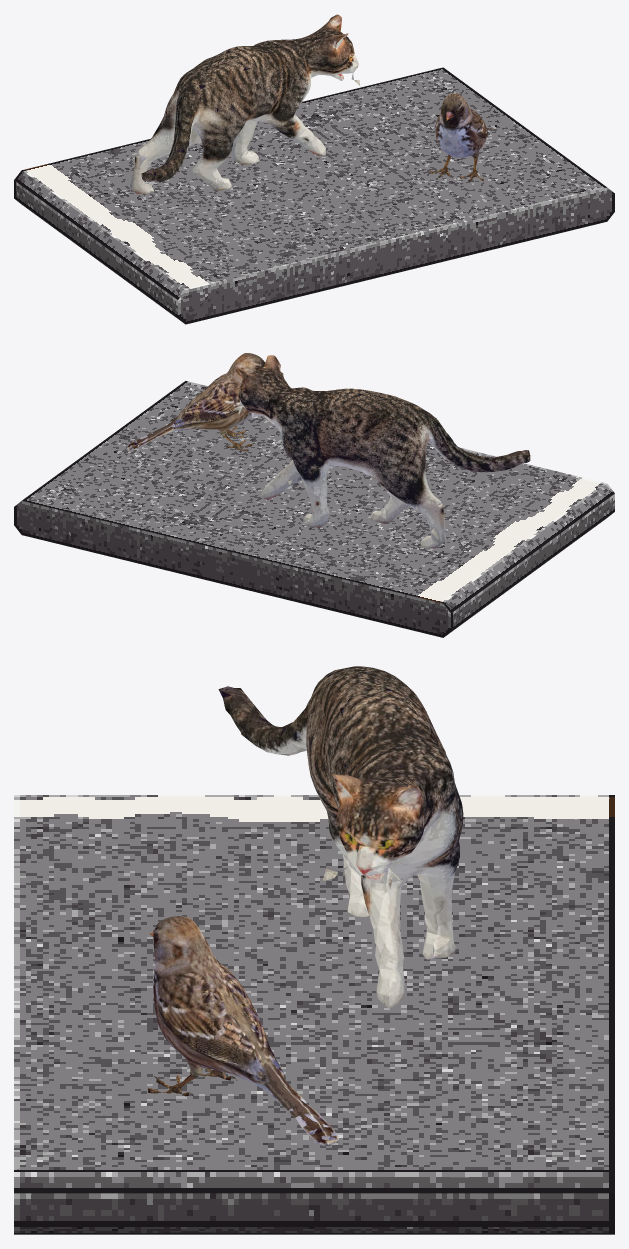
File: stalker.glb
The picture shows the model from 3 angles, top to bottom: view 1: azimuth 30°, elevation 25°; view 2: azimuth 150°, elevation 25°; view 3: azimuth 270°, elevation 25°; orthographic projection. The views are drawn at different scales.
Parts seen in each view (by area): view 1: base, model_cat, model_bird; view 2: base, model_cat, model_bird; view 3: base, model_cat, model_bird.
Boxes of the visible parts, x1,y1,x2,y2 form: base: (14, 67, 614, 324); model_cat: (130, 14, 360, 193); model_bird: (424, 93, 498, 181); base: (14, 381, 614, 637); model_cat: (230, 355, 530, 548); model_bird: (126, 353, 265, 451); base: (14, 795, 614, 1234); model_cat: (218, 666, 463, 1008); model_bird: (148, 916, 339, 1146).
Size of the model in its own units: 40 by 14.54 by 26.
3 materials, 3 textured.
